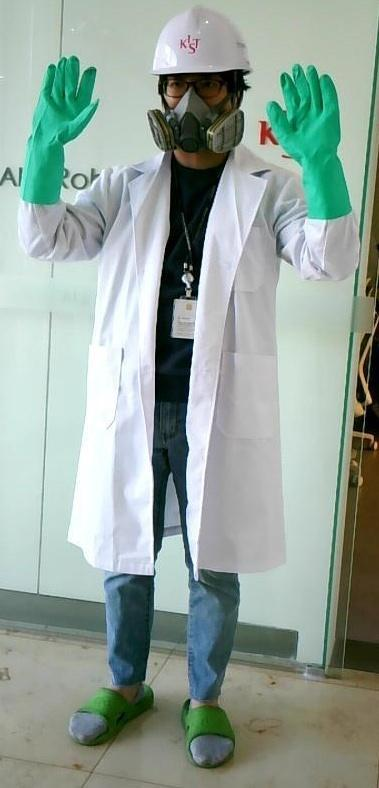lab_coat: (81, 159, 290, 560)
